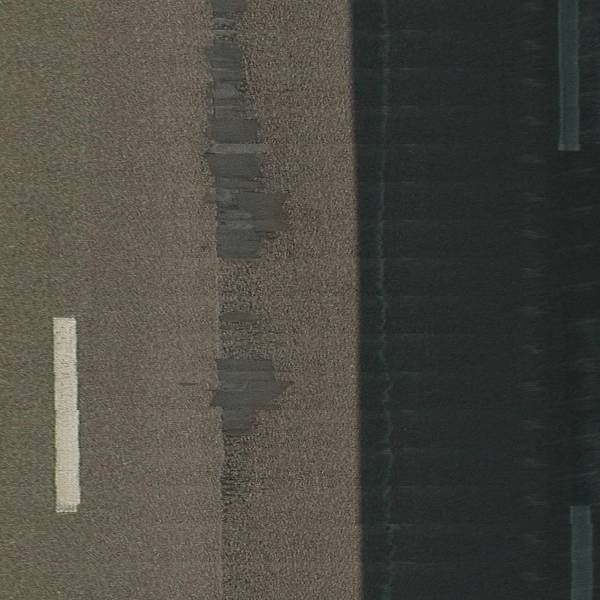road_damage: (199, 1, 290, 266), (371, 16, 403, 594), (212, 352, 304, 438), (218, 464, 260, 523), (213, 290, 270, 333)
